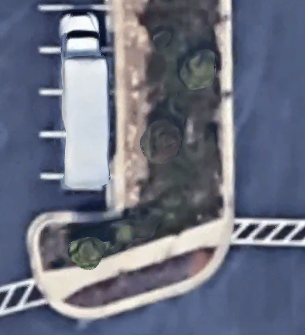Occupied: (38, 50, 111, 93), (37, 134, 110, 177), (38, 7, 111, 49), (37, 94, 111, 134), (38, 177, 111, 213)
